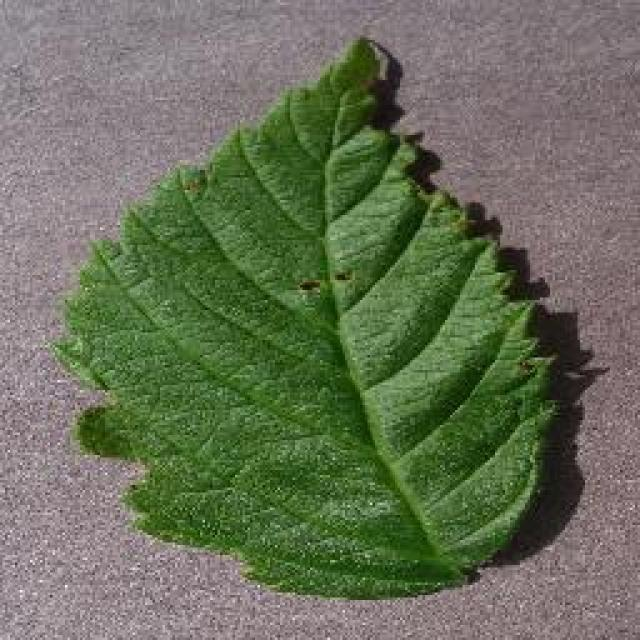Ras_healthy: (78, 134, 521, 541)
